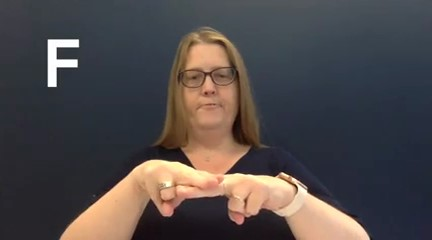F: (136, 155, 273, 228)
